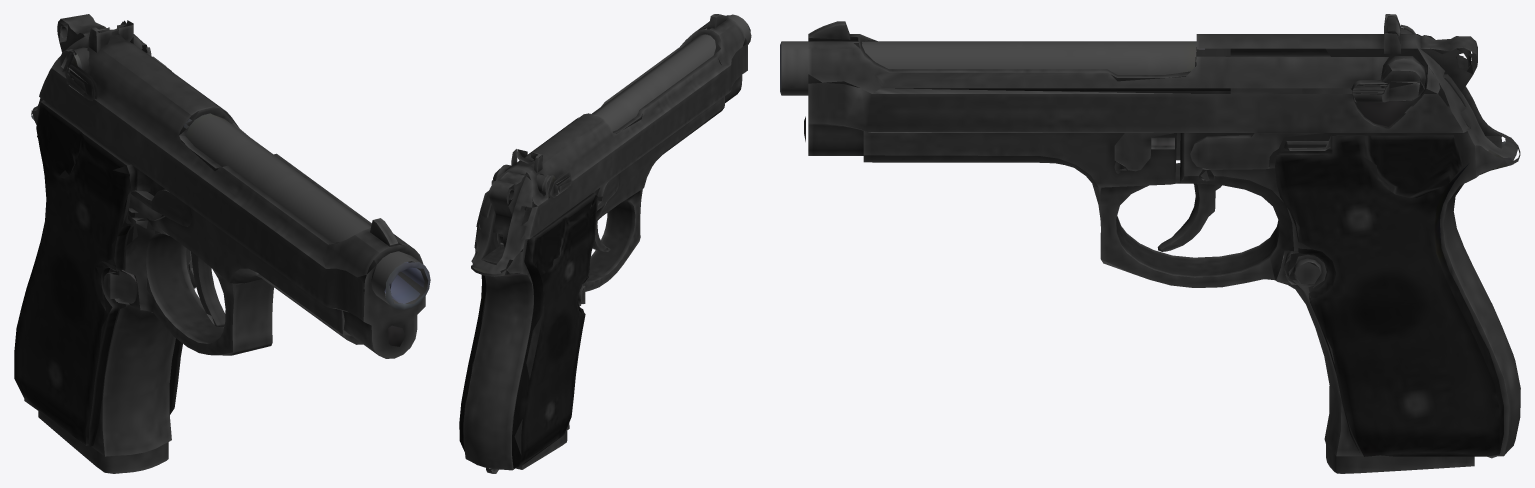
The model's file is g_dualies_lo.glb.
The picture shows the model from 3 angles, left to right: view 1: azimuth 30°, elevation 25°; view 2: azimuth 150°, elevation 25°; view 3: azimuth 270°, elevation 25°; orthographic projection. The views are drawn at different scales.
Parts seen in each view (by area): view 1: merged; view 2: merged; view 3: merged.
Part boxes in pixels (x1,y1,x2,y2): merged: (14, 14, 430, 473); merged: (459, 14, 751, 473); merged: (780, 14, 1520, 473).
Size of the model in its own units: 0.0311 by 0.1383 by 0.2135.
1 material, 1 textured.
